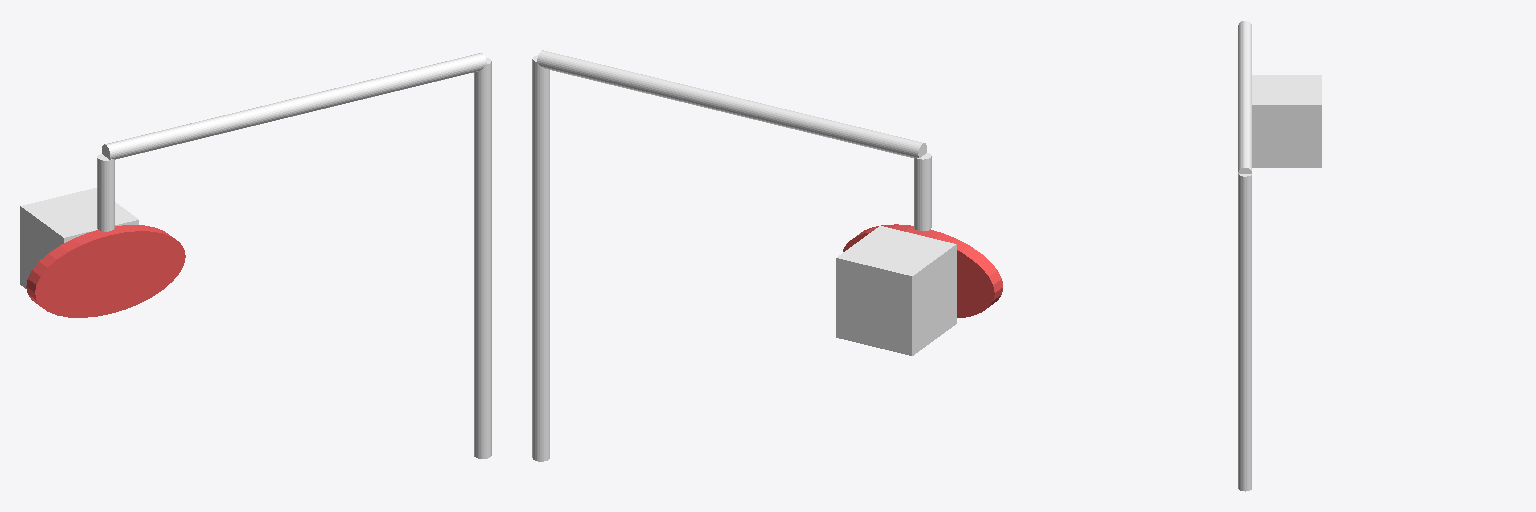
robot.urdf — elevator:
<?xml version="1.0" ?>
<robot name="elevator">
    <material name="white">
        <color rgba="1.0 1.0 1.0 1.0"/>
    </material>
        <material name="red">
        <color rgba="1 0.4 0.4 1"/>
    </material>
    <link name="base_link">
        <visual>
            <geometry>
                <box size="0.1 0.1 0.1"/>
            </geometry>
            <material name="white"/>
        </visual>
        <collision>
            <geometry>
                <box size="0.1 0.1 0.1"/>
            </geometry>
        </collision>
        <inertial>
            <mass value="0.0"/>
            <inertia ixx="0.0" ixy="0.0" ixz="0.0" iyy="0.0" iyz="0.0" izz="0.0"/>
        </inertial>
    </link>
    <link name="elevator">
        <inertial>
            <origin rpy="0 0 0" xyz="0.0 0.0 0.0"/>
            <mass value=".1"/>
            <inertia ixx="0.01" ixy="0.01" ixz="0.01" iyy="0.01" iyz="0.01" izz="0.01"/>
        </inertial>
        <visual>
            <origin rpy="1.57 0 0" xyz="0.0 -0.01 0"/>
            <geometry>
                <mesh filename="cylinder.obj" scale="0.1 0.1 0.1"/>
            </geometry>
            <material name="red"/>
        </visual>
        <collision>
            <origin rpy="1.57 0 0" xyz="0.0 -0.01 0"/>
            <geometry>
	 	        <mesh filename="cylinder.obj" scale="0.1 0.1 0.1"/>
            </geometry>
        </collision>
    </link>
    <joint name="basetoelevator" type="continuous">
        <parent link="base_link"/>
        <child link="elevator"/>
        <origin xyz="0.0 -0.05 0.0"/>
        <axis xyz="0.0 1.0 0.0"/>
    </joint>
    <link name="prism_rod">
        <visual>
            <geometry>
                <cylinder radius="0.01" length="0.09"/>
            </geometry>
            <material name="white"/>
            <origin xyz="0.0 0.0 0.05"/>
        </visual>
        <collision>
            <geometry>
                <cylinder radius="0.01" length="0.09"/>
            </geometry>
            <origin xyz="0.0 0.0 0.05"/>
        </collision>
        <inertial>
            <mass value="0.01"/>
            <inertia ixx="0.01" ixy="0.01" ixz="0.01" iyy="0.01" iyz="0.01" izz="0.01"/>
        </inertial>
    </link>
    <joint name="elevatortorod" type="prismatic">
        <parent link="elevator"/>
        <child link="prism_rod"/>
        <origin xyz="0.0 -0.01 0.05"/>
        <axis xyz="0.0 0.0 1.0"/>
        <limit lower="0.0" upper=".1"/>
    </joint>
    <link name="frame_hor">
        <visual>
            <geometry>
                <cylinder radius="0.01" length="0.5"/>
            </geometry>
            <material name="white"/>
            <origin rpy="0.0 -1.57 0.0" xyz="0.25 0.0 0.0"/>
        </visual>
        <collision>
            <geometry>
                <cylinder radius="0.01" length="0.5"/>
            </geometry>
            <origin rpy="0.0 -1.57 0.0" xyz="0.25 0.0 0.0"/>
        </collision>
        <inertial>
            <mass value=".1"/>
            <inertia ixx="0.1" ixy="0.1" ixz="0.1" iyy="0.1" iyz="0.1" izz="0.1"/>
        </inertial>
    </link>
    <joint name="rodtoframe" type="continuous">
        <parent link="prism_rod"/>
        <child link="frame_hor"/>
        <origin xyz="0.0 0.0 0.1"/>
        <axis xyz="0.0 1.0 0.0"/>
    </joint>
    <link name="frame_ver">
        <visual>
            <geometry>
                <cylinder radius="0.01" length="0.5"/>
            </geometry>
            <material name="white"/>
            <origin rpy="0.0 0 0.0" xyz="0.0 0.0 -0.25"/>
        </visual>
        <collision>
            <geometry>
                <cylinder radius="0.01" length="0.5"/>
            </geometry>
            <origin rpy="0.0 0 0.0" xyz="0.0 0.0 -0.25"/>
        </collision>
        <inertial>
            <mass value=".1"/>
            <inertia ixx="0.1" ixy="0.1" ixz="0.1" iyy="0.1" iyz="0.1" izz="0.1"/>
        </inertial>
    </link>
    <joint name="frame" type="fixed">
        <parent link="frame_hor"/>
        <child link="frame_ver"/>
        <origin xyz="0.5 0.0 0.0"/>
    </joint>
    <link name="frame_end">
        <collision>
            <geometry>
                <sphere radius="0.001"/>
            </geometry>
            <origin xyz="0.0 0.0 -0.001"/>
        </collision>
        <inertial>
            <mass value="0.0001"/>
            <inertia ixx="0.0" ixy="0.0" ixz="0.0" iyy="0.0" iyz="0.0" izz="0.0"/>
        </inertial>
    </link>
    <joint name="frame_connector" type="fixed">
        <parent link="frame_ver"/>
        <child link="frame_end"/>
        <origin xyz="0.0 0.0 -0.5"/>
    </joint>
</robot>

--- Render facts (derived) ---
3 views of the same robot in one strip: view 1: azimuth 30°, elevation 25°; view 2: azimuth 150°, elevation 25°; view 3: azimuth 270°, elevation 25° (orthographic).
Model elevator with 6 links and 5 joints (2 continuous, 1 prismatic, 2 fixed), rooted at base_link, posed every joint at zero.
Visible links, largest first — view 1: elevator, frame_ver, frame_hor, base_link, prism_rod; view 2: base_link, frame_ver, frame_hor, elevator, prism_rod; view 3: base_link, frame_ver, frame_hor.
Boxes of the visible links, bbox=[...] form: elevator: bbox=[26, 225, 185, 317]; frame_ver: bbox=[474, 58, 491, 458]; frame_hor: bbox=[102, 53, 486, 159]; base_link: bbox=[20, 188, 138, 288]; prism_rod: bbox=[97, 154, 114, 231]; base_link: bbox=[836, 226, 956, 355]; frame_ver: bbox=[532, 55, 549, 461]; frame_hor: bbox=[537, 50, 926, 157]; elevator: bbox=[843, 224, 1002, 317]; prism_rod: bbox=[914, 153, 931, 230]; base_link: bbox=[1252, 75, 1321, 167]; frame_ver: bbox=[1238, 174, 1251, 491]; frame_hor: bbox=[1238, 21, 1251, 173].
Size in the robot's own frame: 0.61 by 0.12 by 0.5102 metres.
1 mesh visuals loaded from 1 distinct referenced files (1 OBJ).